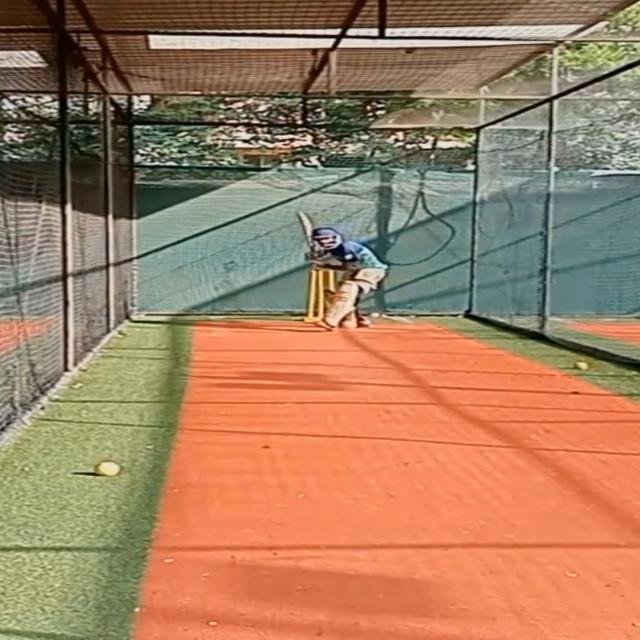ball: (334, 299, 348, 307)
stump: (306, 270, 338, 322)
